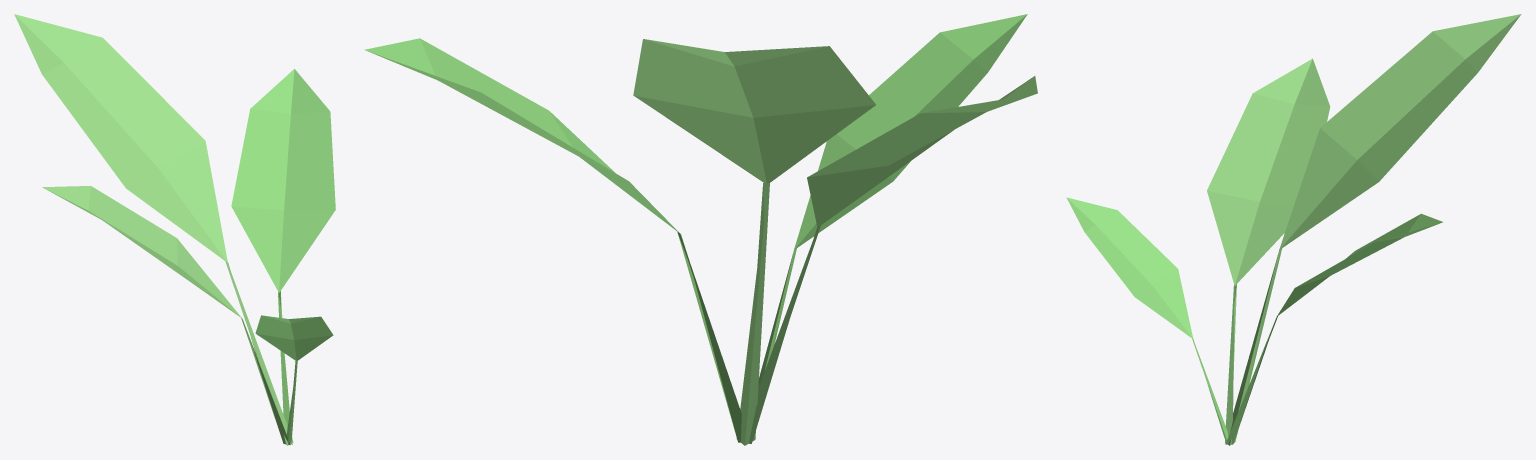
The model's file is Plant_j_OneS_09.fbx.
The picture shows the model from 3 angles, left to right: view 1: azimuth 30°, elevation 25°; view 2: azimuth 150°, elevation 25°; view 3: azimuth 270°, elevation 25°; orthographic projection. The views are drawn at different scales.
Parts seen in each view (by area): view 1: Plant_j_OneS_09; view 2: Plant_j_OneS_09; view 3: Plant_j_OneS_09.
Part boxes in pixels (x1,y1,x2,y2): Plant_j_OneS_09: (14, 14, 335, 445); Plant_j_OneS_09: (364, 14, 1037, 445); Plant_j_OneS_09: (1066, 14, 1521, 445).
Size of the model in its own units: 27.97 by 29.89 by 33.87.
